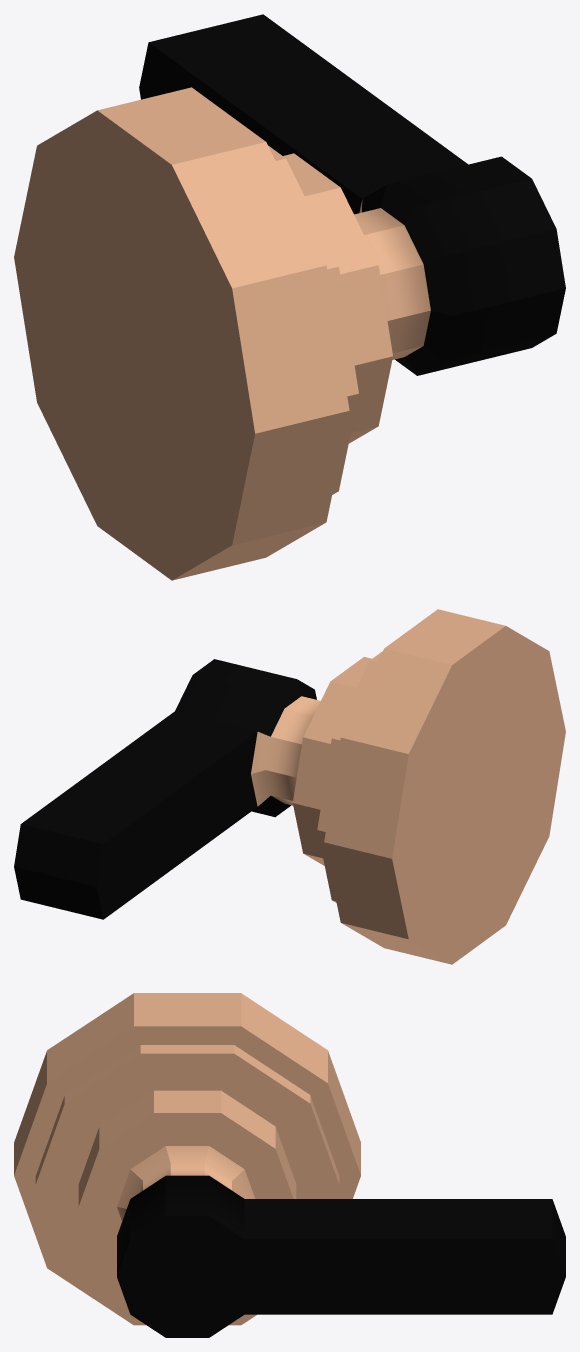
The model's file is Door Handle.fbx.
3 views of the same model, one above another, from view 1: azimuth 30°, elevation 25°; view 2: azimuth 150°, elevation 25°; view 3: azimuth 270°, elevation 25° (orthographic). The views are drawn at different scales.
Parts seen in each view (by area): view 1: Cylinder.058; view 2: Cylinder.058; view 3: Cylinder.058.
Part boxes in pixels (bbox=[...]): Cylinder.058: bbox=[14, 14, 565, 580]; Cylinder.058: bbox=[14, 609, 565, 964]; Cylinder.058: bbox=[14, 993, 565, 1337].
Bounding box in the file's own units: 183 × 190 × 318.
